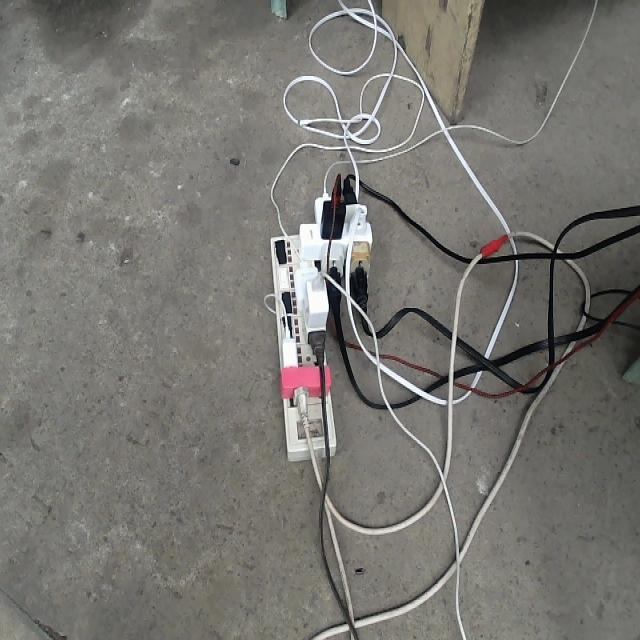-: (270, 170, 372, 462)
